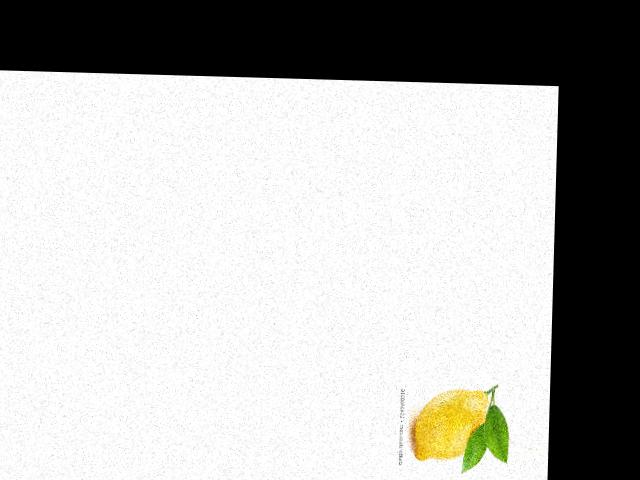lemon: (411, 383, 500, 470)
